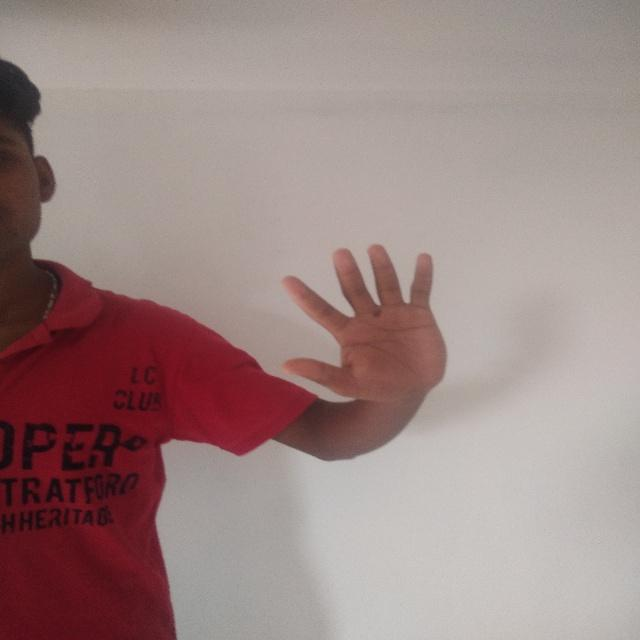Moutza: (268, 239, 462, 415)
